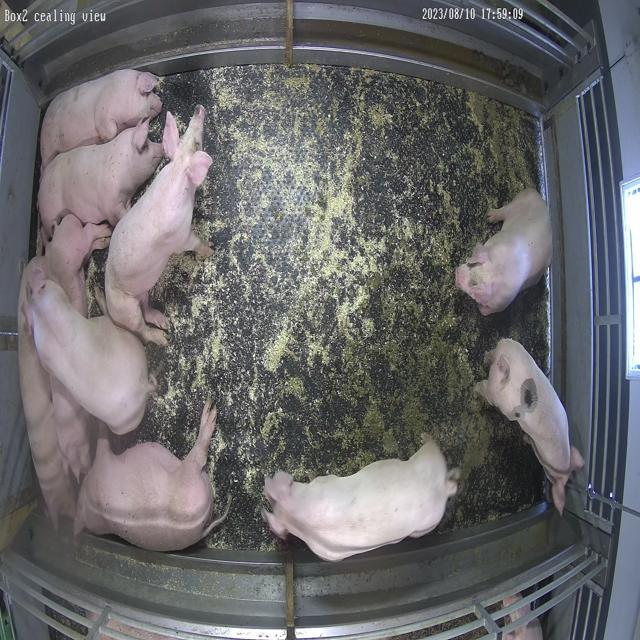Dirt: (320, 271, 549, 532), (467, 91, 541, 208)
Pig: (105, 105, 212, 346), (262, 439, 461, 562), (76, 402, 225, 552), (29, 259, 154, 436), (476, 339, 584, 514), (37, 120, 163, 238), (19, 265, 75, 528), (40, 68, 162, 168), (45, 214, 111, 316)
